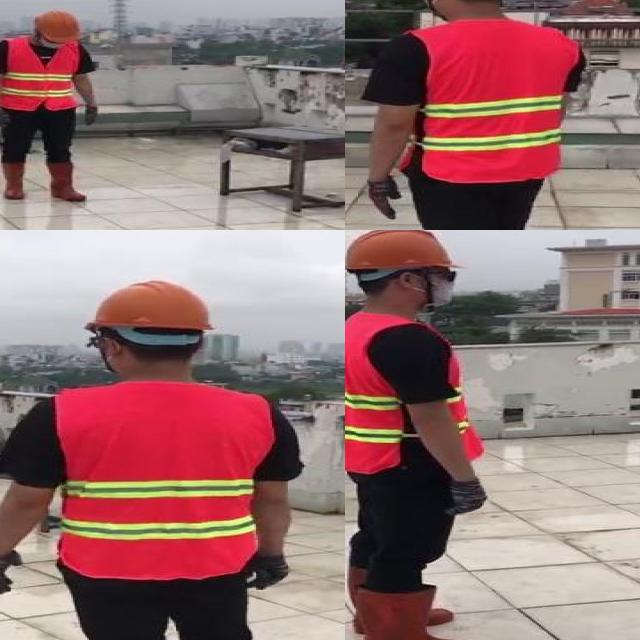boots: (354, 585, 489, 640), (44, 160, 88, 202), (0, 159, 28, 202)
face_mask: (419, 268, 463, 306)
hand_glove: (440, 479, 490, 517), (247, 551, 293, 590), (368, 178, 401, 221), (0, 552, 19, 594), (83, 104, 103, 125), (0, 109, 10, 129)
head_helmet: (80, 275, 217, 336), (345, 230, 460, 274), (32, 10, 80, 43)
person: (0, 270, 319, 640), (345, 230, 502, 640), (351, 0, 593, 230), (0, 10, 112, 206)
vest: (55, 382, 267, 579), (410, 21, 578, 185), (345, 310, 478, 472), (0, 37, 77, 111)
